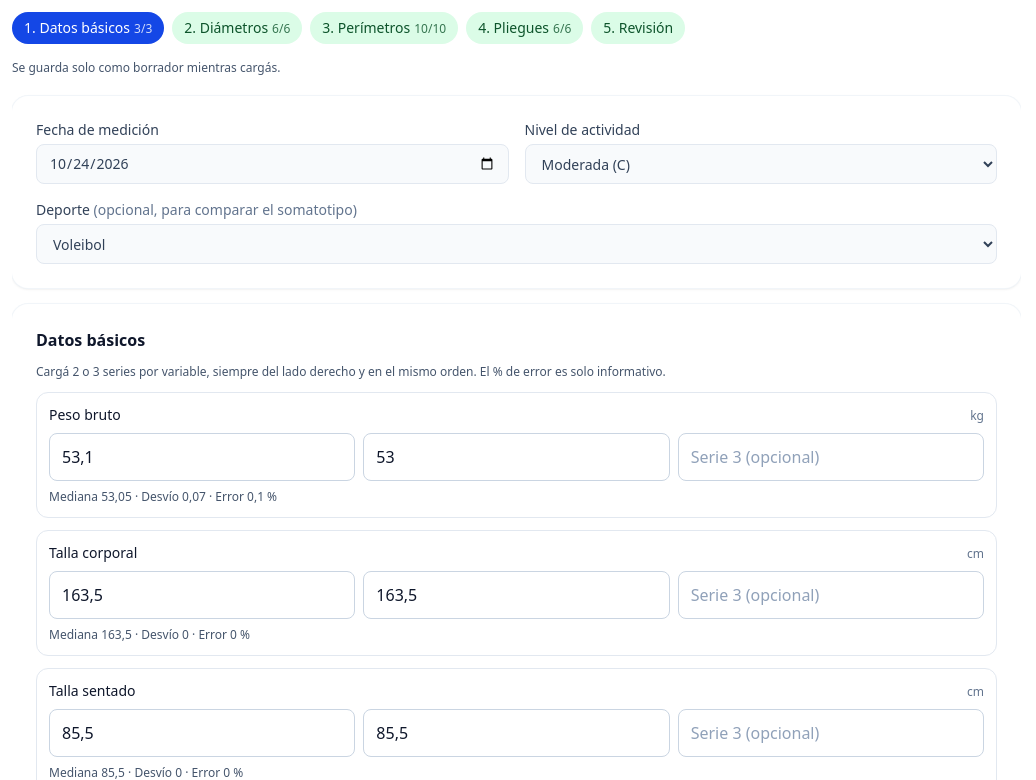
Test case: instrumentos y responsable › una medición ya guardada muestra lo que se guardó (no vuelve a precargar) y su responsable
Click the button "5. Revisión" at (638, 28), box [591, 12, 685, 44]
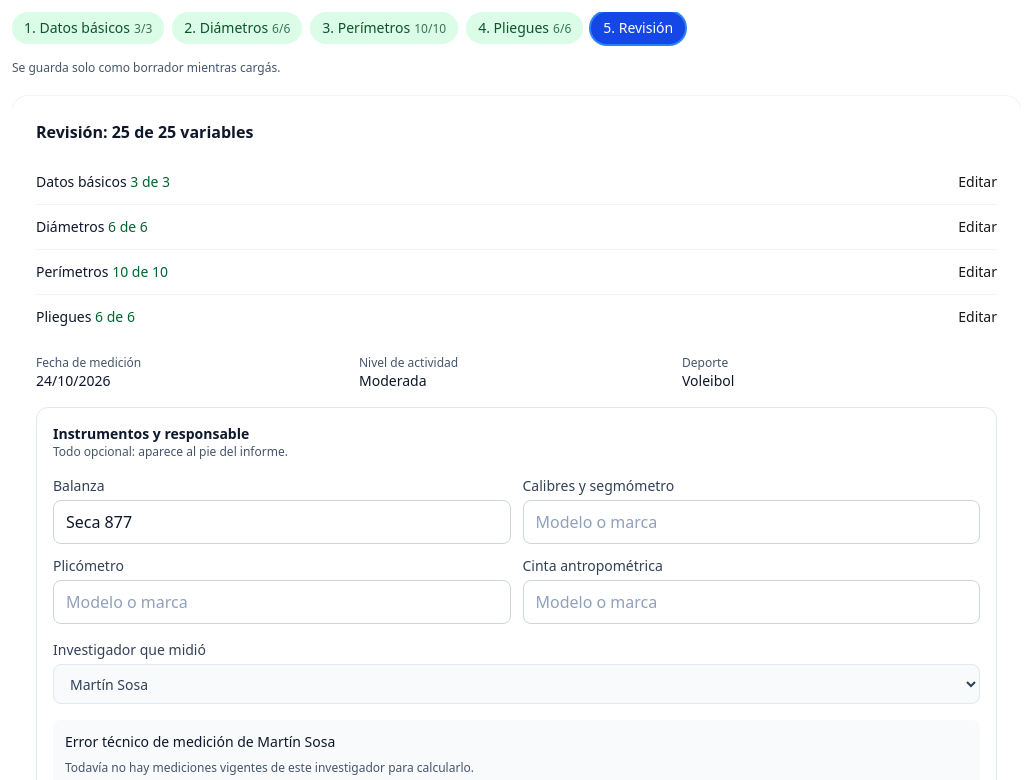
Expected: the field labelled "Balanza" holds "Seca 877", [53, 500, 510, 544]
Expected: the field labelled "Plicómetro" is empty, [53, 580, 510, 624]
Expected: the dropdown labelled "Investigador que midió" shows "Martín Sosa", [53, 664, 980, 704]
